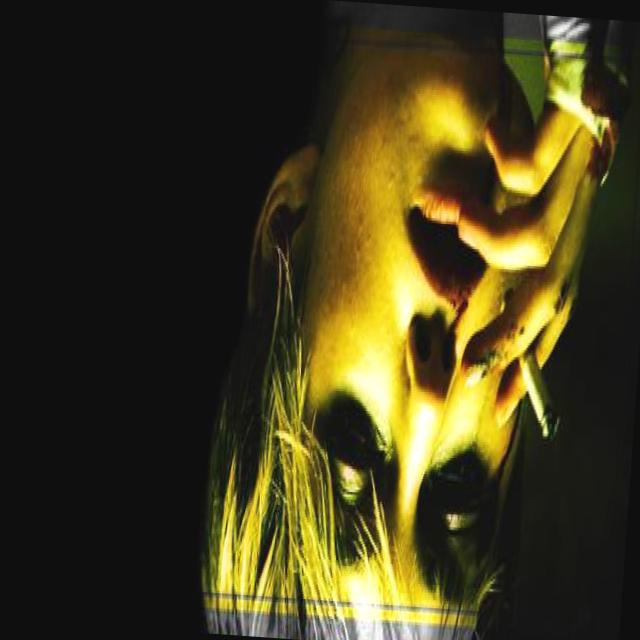smoke: (476, 268, 587, 484)
